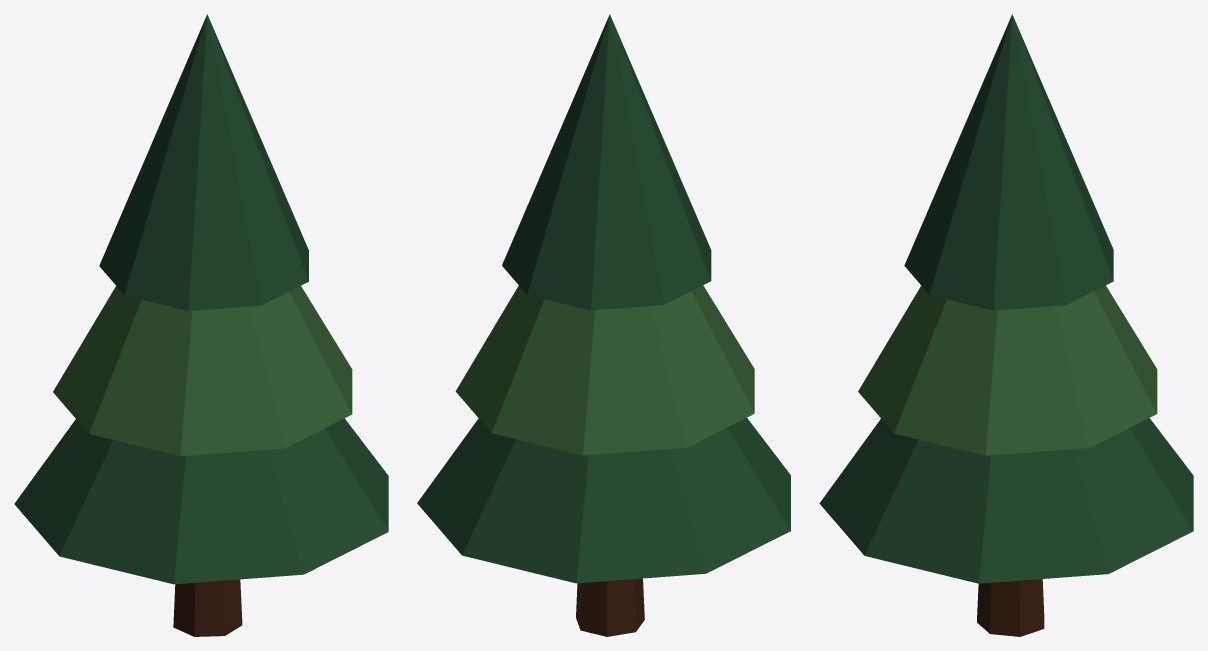
Rendered from pine.glb.
3 views of the same model, side by side, from view 1: azimuth 30°, elevation 25°; view 2: azimuth 150°, elevation 25°; view 3: azimuth 270°, elevation 25° (orthographic).
Visible parts, largest first — view 1: pine; view 2: pine; view 3: pine.
Boxes of the visible parts, x1,y1,x2,y2 form: pine: (14, 14, 388, 636); pine: (417, 14, 790, 636); pine: (819, 14, 1193, 636).
Bounding box in the file's own units: 2.46 × 4.35 × 2.42.
Materials: 1 (1 with a texture image).
